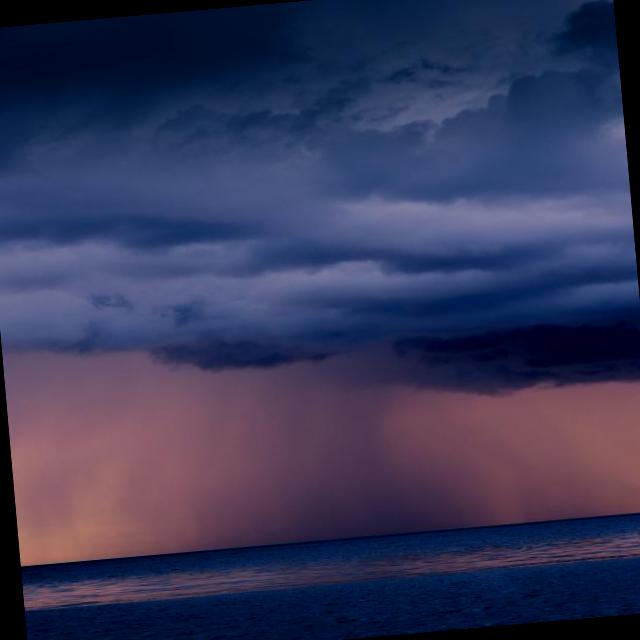cumulonimbus: (2, 0, 639, 348)
